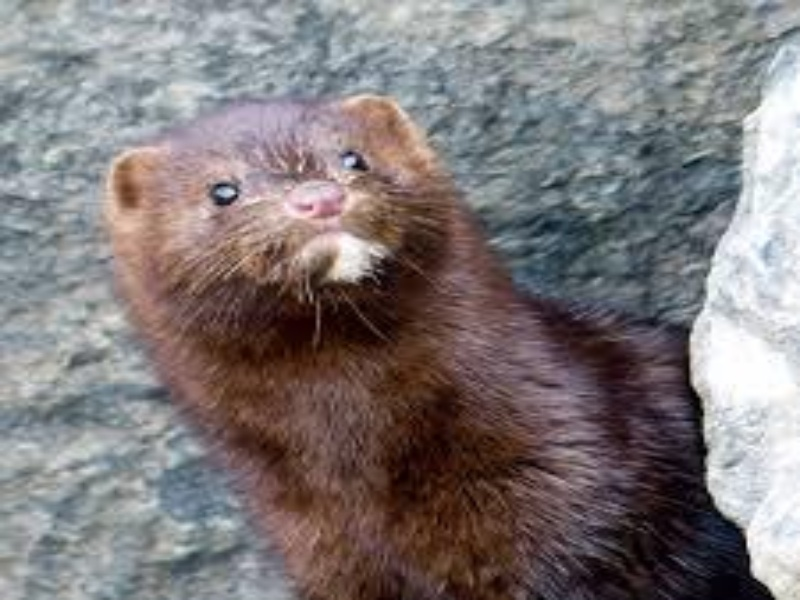minkish: (100, 91, 734, 596)
